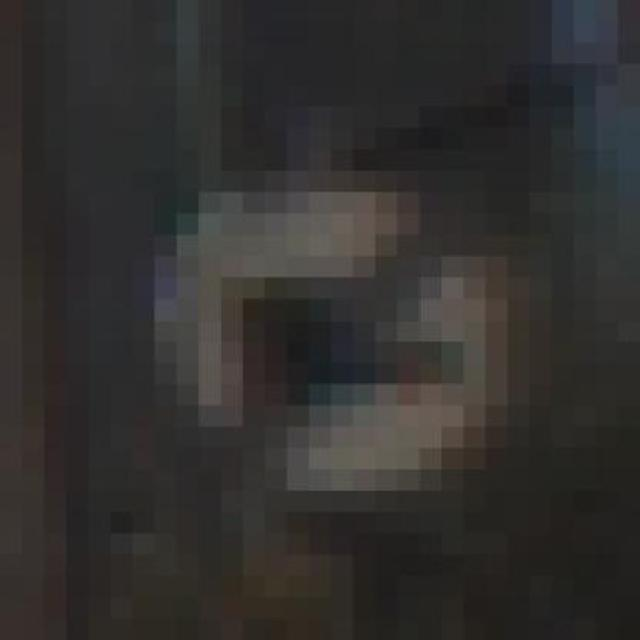Overtaking by trucks is prohibited: (88, 128, 574, 534)
